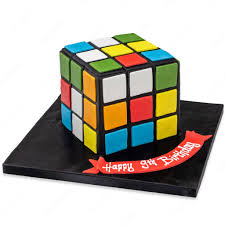cube: (53, 26, 185, 157)
